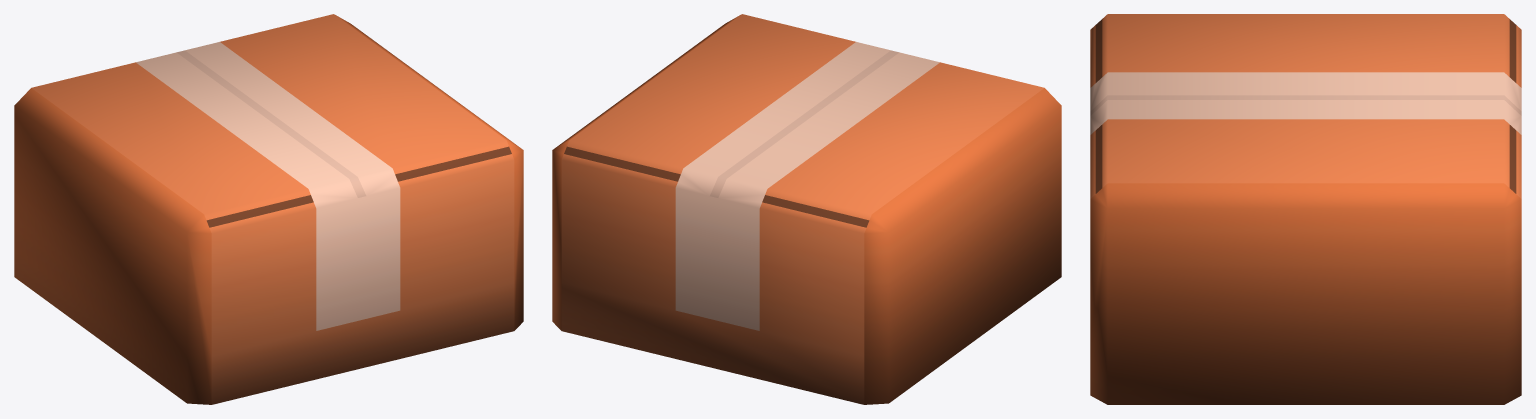
File: package.fbx
3 views of the same model, side by side, from view 1: azimuth 30°, elevation 25°; view 2: azimuth 150°, elevation 25°; view 3: azimuth 270°, elevation 25° (orthographic). The views are drawn at different scales.
Visible parts, largest first — view 1: Package; view 2: Package; view 3: Package.
Boxes of the visible parts, bbox=[...] form: Package: bbox=[14, 14, 523, 404]; Package: bbox=[552, 14, 1061, 404]; Package: bbox=[1090, 14, 1521, 404].
Bounding box in the file's own units: 144 × 75.76 × 140.
